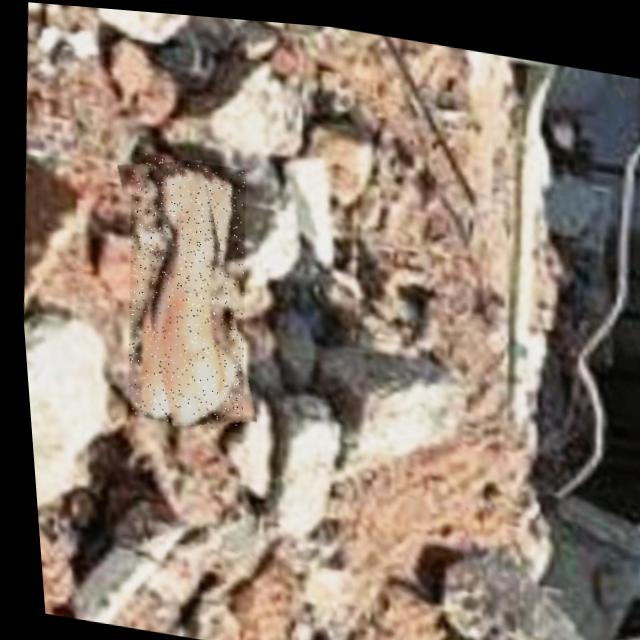Person in Rubble: (105, 147, 258, 432)
